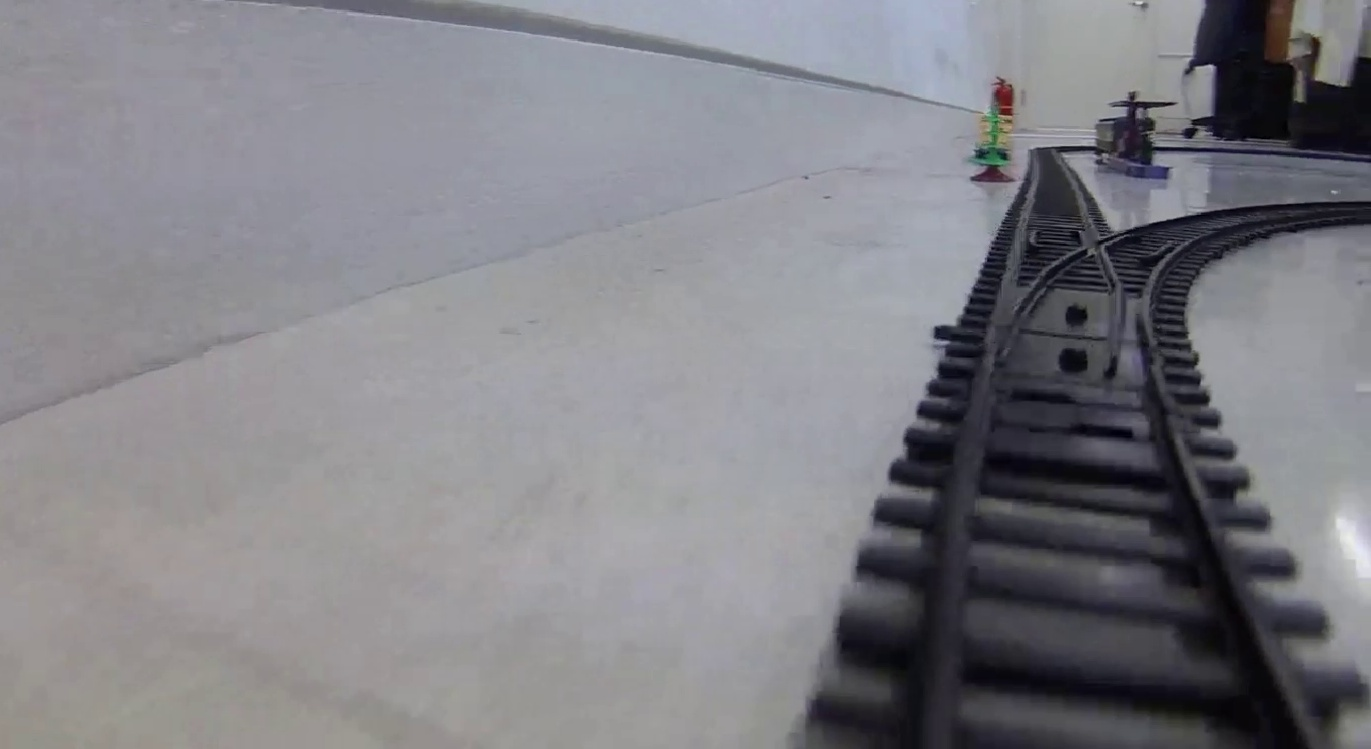tree: (966, 104, 1018, 184)
